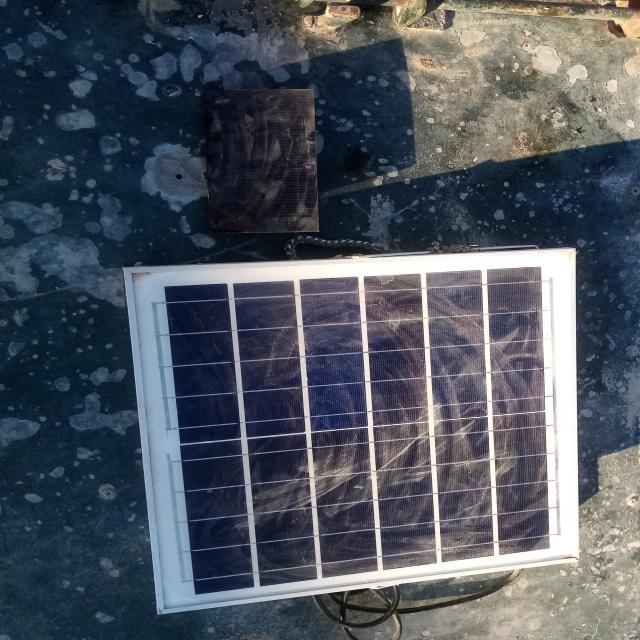faulty: (129, 254, 578, 618), (203, 91, 322, 235)
